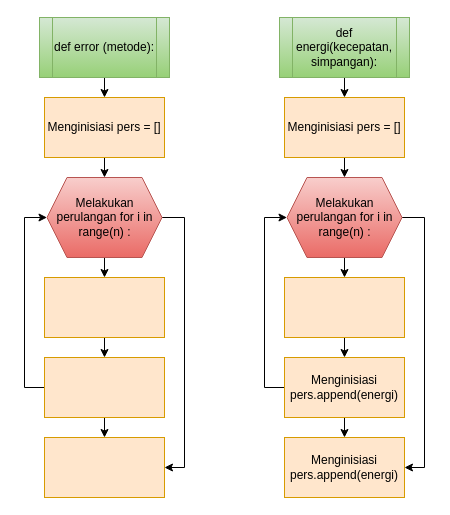
Some shapes in this 450 by 515 pixel diagram are drawn without their labels. Each missing label, with the centre of its shape:
"Mengembalikan nilai pers ke dalam fungsi" goes at [104,467].
"Menginisiasi energi = (C1*kecepatan[i]**2) + (C2*simpangan[i]**2)" goes at [344,307].
"Menginisiasi error = abs(v[i] - metode[i])" goes at [104,307].
"Menginisiasi pers.append(error)" goes at [104,387].
